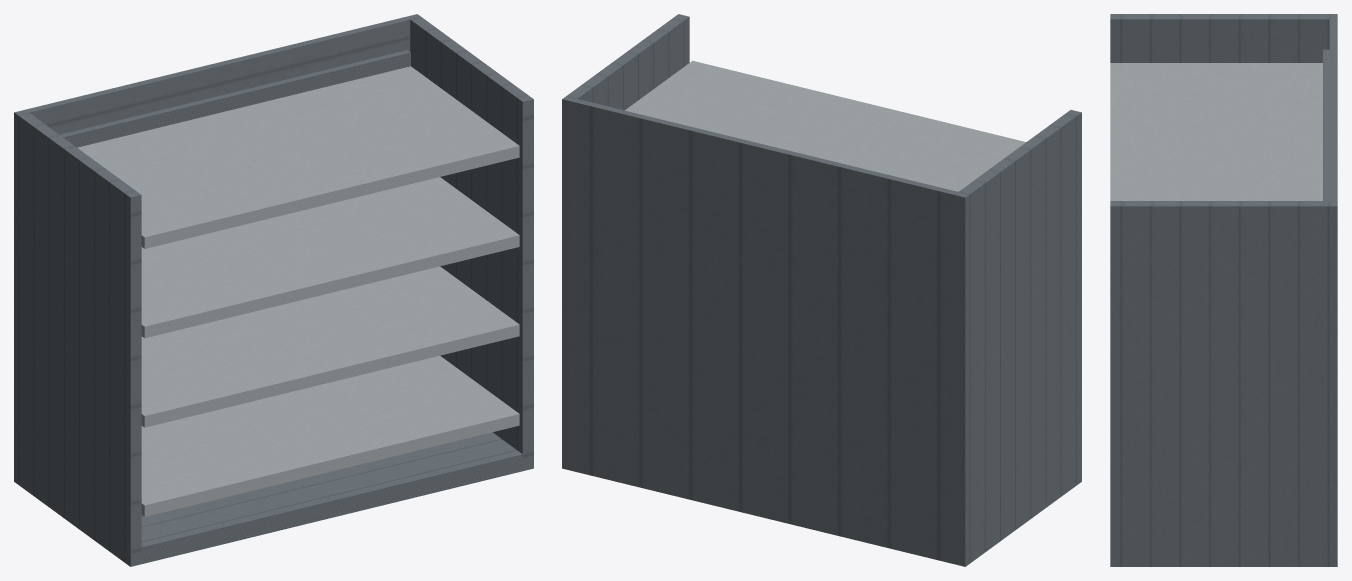
File: Shelf_2x1.obj
The picture shows the model from 3 angles, left to right: view 1: azimuth 30°, elevation 25°; view 2: azimuth 150°, elevation 25°; view 3: azimuth 270°, elevation 25°; orthographic projection. The views are drawn at different scales.
Parts seen in each view (by area): view 1: Shelf_2x1; view 2: Shelf_2x1; view 3: Shelf_2x1.
Part boxes in pixels (bbox=[...]): Shelf_2x1: bbox=[14, 14, 533, 566]; Shelf_2x1: bbox=[562, 14, 1081, 566]; Shelf_2x1: bbox=[1110, 14, 1337, 566].
Bounding box in the file's own units: 2 × 1.75 × 1.
Materials: 2 (2 with a texture image).
